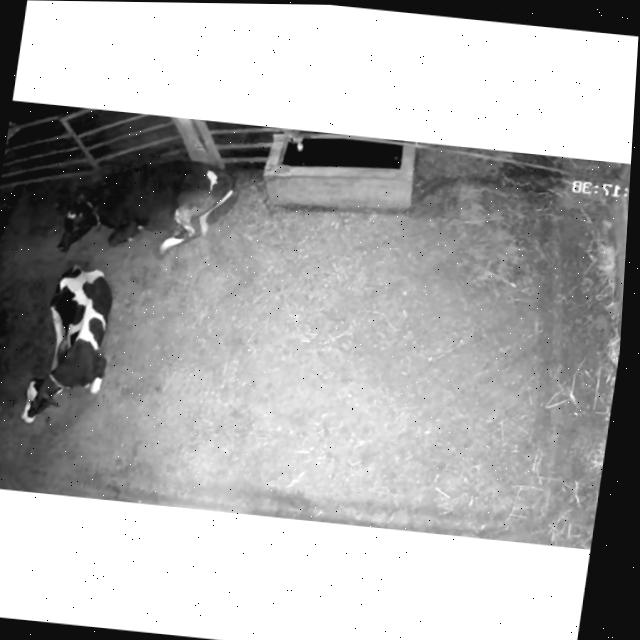lay: (0, 252, 142, 449), (42, 143, 251, 272)
